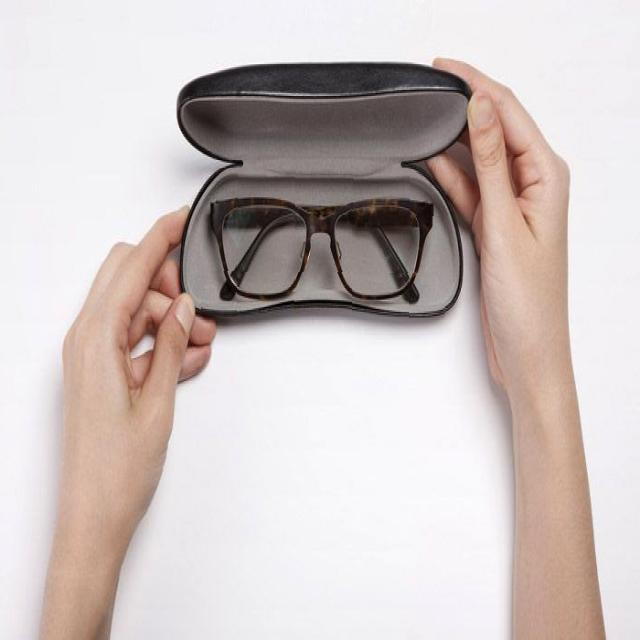glasses: (201, 169, 447, 317)
